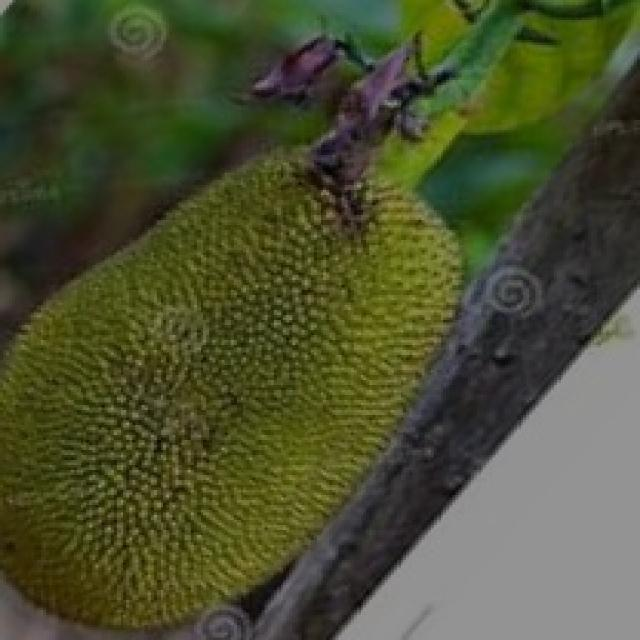Fruit: (0, 282, 391, 640)
